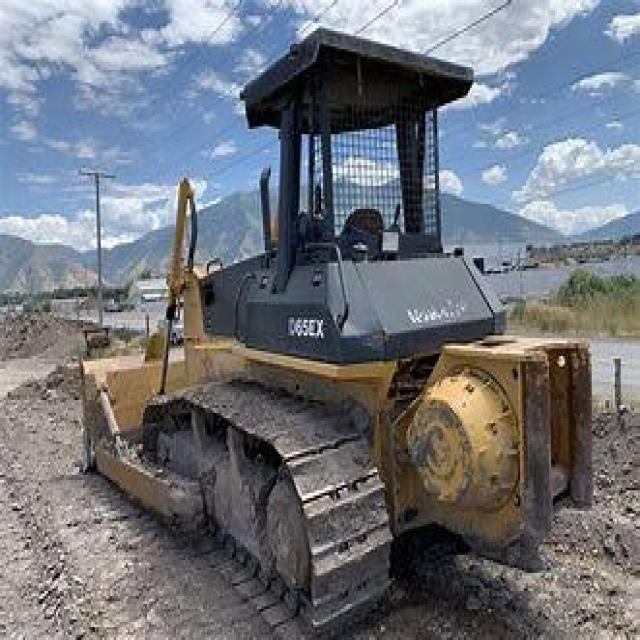Bulldozer: (64, 13, 613, 632)
